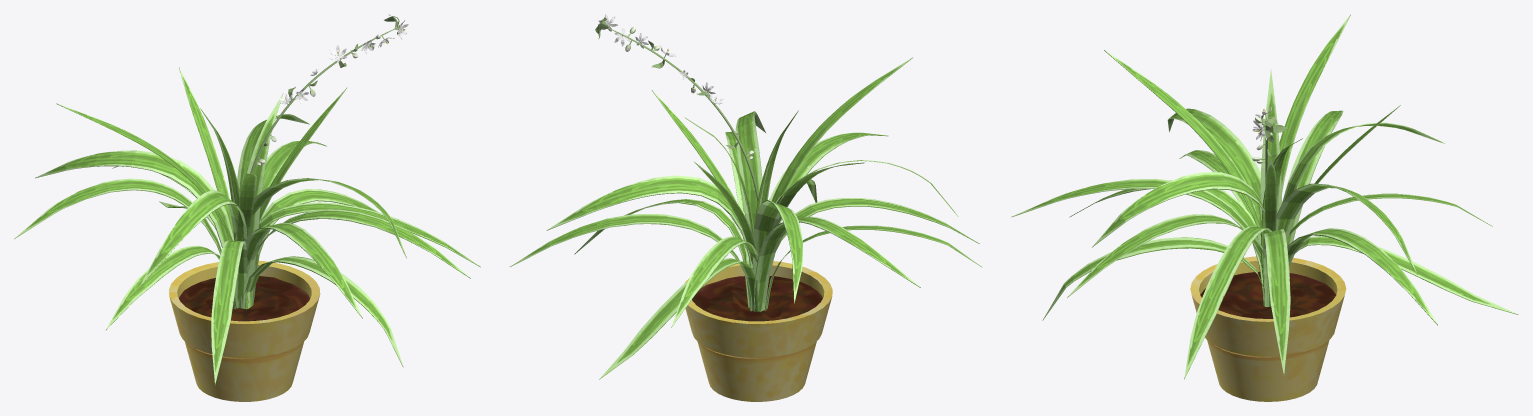
The model's file is Chlorophytum_good_Perfect_Flowers.glb.
The picture shows the model from 3 angles, left to right: view 1: azimuth 30°, elevation 25°; view 2: azimuth 150°, elevation 25°; view 3: azimuth 270°, elevation 25°; orthographic projection. The views are drawn at different scales.
Visible parts, largest first — view 1: Pot, Cube.011, Cube.018, Cube.012, Cube.017, Cube.010, Cube.006, Cube.023, Cube.016, Cube.019, Cube.007, Cube.014 (+9 smaller); view 2: Pot, Cube.009, Cube.010, Cube.018, Cube.020, Cube.021, Cube.015, Cube.022, Cube.008, Cube.011, Cube.017, Cube.007 (+7 smaller); view 3: Pot, Cube.016, Cube.007, Cube.015, Cube.012, Cube.021, Cube.006, Cube.004, Cube.022, Cube.017, Cube.009, Cube.020 (+9 smaller).
Part boxes in pixels (<box>): Pot: <box>169,260,320,401</box>; Cube.011: <box>211,240,247,385</box>; Cube.018: <box>35,150,235,296</box>; Cube.012: <box>140,190,247,285</box>; Cube.017: <box>237,222,362,318</box>; Cube.010: <box>14,178,221,254</box>; Cube.006: <box>243,209,470,301</box>; Cube.023: <box>245,256,403,367</box>; Cube.016: <box>259,202,480,267</box>; Cube.019: <box>105,245,235,330</box>; Cube.007: <box>252,189,378,305</box>; Cube.014: <box>179,67,233,237</box>; Pot: <box>684,261,832,401</box>; Cube.009: <box>546,175,751,266</box>; Cube.010: <box>754,216,920,311</box>; Cube.018: <box>752,200,802,303</box>; Cube.020: <box>599,258,758,379</box>; Cube.021: <box>510,214,751,311</box>; Cube.015: <box>735,111,765,265</box>; Cube.022: <box>749,57,912,307</box>; Cube.008: <box>671,236,758,327</box>; Cube.011: <box>777,198,979,248</box>; Cube.017: <box>769,132,888,223</box>; Cube.007: <box>574,199,749,307</box>; Pot: <box>1190,256,1346,401</box>; Cube.016: <box>1184,226,1272,379</box>; Cube.007: <box>1263,229,1290,375</box>; Cube.015: <box>1092,172,1264,247</box>; Cube.012: <box>1167,108,1262,270</box>; Cube.021: <box>1287,228,1437,325</box>; Cube.006: <box>1067,214,1266,297</box>; Cube.004: <box>1263,14,1350,300</box>; Cube.022: <box>1104,50,1261,235</box>; Cube.017: <box>1011,178,1261,259</box>; Cube.009: <box>1276,183,1417,274</box>; Cube.020: <box>1294,236,1518,314</box>.
Size of the model in its own units: 12.24 by 9.8 by 13.32.
25 materials, 24 textured.
